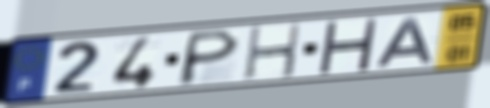2: (48, 39, 104, 97)
4: (109, 34, 159, 91)
A: (373, 15, 437, 69)
H: (242, 21, 304, 83), (315, 17, 380, 75)
P: (173, 27, 243, 87)
